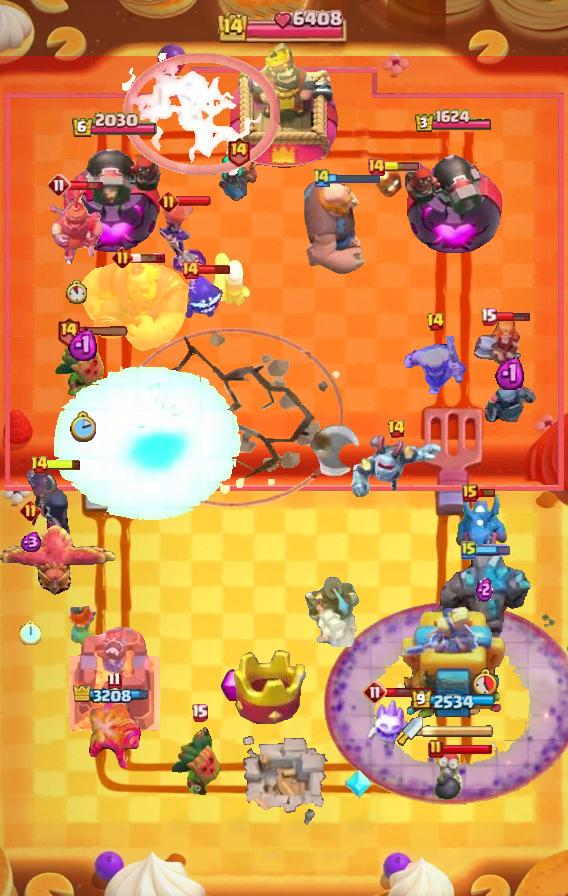axe: (307, 424, 363, 478)
bar: (441, 743, 493, 755), (330, 172, 381, 184), (78, 326, 130, 337), (385, 687, 435, 698), (46, 458, 82, 471), (69, 179, 104, 192), (475, 544, 511, 556), (130, 252, 166, 264), (176, 195, 212, 207), (495, 311, 531, 322), (197, 264, 231, 275), (384, 162, 420, 172), (476, 487, 496, 498)
bar-level: (56, 316, 81, 347), (226, 136, 251, 167), (363, 680, 387, 704), (47, 173, 71, 197), (20, 500, 41, 521), (112, 247, 133, 268), (158, 191, 179, 212), (312, 167, 332, 188), (180, 260, 200, 280), (366, 157, 386, 177), (30, 455, 49, 475), (387, 419, 406, 439), (426, 312, 445, 332), (191, 703, 208, 722), (480, 307, 497, 326), (428, 739, 444, 759), (461, 540, 477, 560), (462, 484, 478, 502), (107, 671, 122, 690)
barbarian-evolution: (402, 336, 468, 397)
bomber: (430, 750, 464, 804)
cannoneer-tower: (62, 138, 166, 256), (403, 138, 503, 256)
clock: (69, 411, 96, 442), (472, 668, 497, 697), (19, 620, 41, 645), (66, 280, 87, 304)
dagger-duchess-tower: (399, 607, 507, 731)
dagger-duchess-tower-bar: (423, 724, 495, 738)
dart-goblin: (170, 725, 228, 801), (53, 331, 111, 401)
electro-dragon: (454, 491, 508, 563)
electro-spirit: (184, 275, 226, 321)
elixir: (495, 355, 524, 390), (68, 327, 97, 361), (18, 532, 42, 552), (476, 576, 493, 602)
evolution-symbol: (221, 669, 246, 703)
fire-spirit: (372, 165, 404, 199)
firecracker: (211, 250, 253, 308)
firecracker-evolution: (86, 680, 142, 772)
ice-spirit-evolution: (367, 697, 411, 751)
ice-spirit-evolution-symbol: (344, 768, 372, 800)
king-tower: (230, 43, 338, 181)
king-tower-bar: (217, 9, 351, 43)
mega-minion: (348, 433, 444, 499)
mini-pekka: (481, 381, 537, 427)
night-witch: (24, 470, 74, 554)
queen-tower: (68, 627, 160, 731)
rascal-girl: (216, 155, 260, 205)
royal-recruit: (49, 190, 104, 264)
tower-bar: (71, 112, 158, 139), (414, 109, 493, 134), (411, 690, 496, 712), (73, 685, 155, 707)
valkyrie: (473, 318, 525, 372), (64, 601, 102, 653)
valkyrie-evolution: (157, 199, 209, 276)
